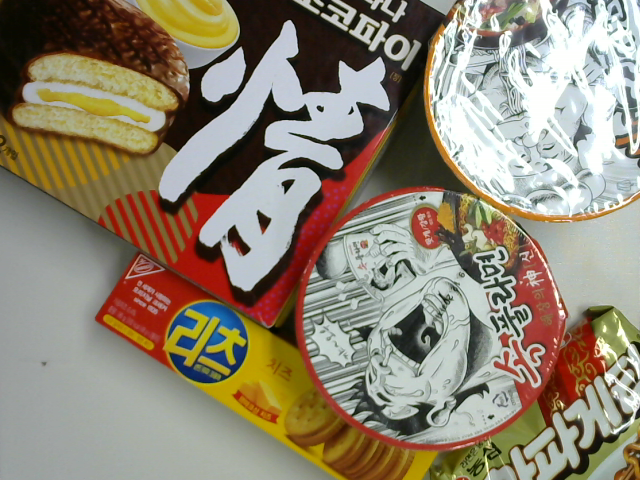Choco_Pie_Banana: (1, 1, 453, 330)
Hejangchan: (422, 1, 640, 233)
Hejangpul: (292, 185, 568, 455)
Olive_Chapaghetti: (413, 304, 639, 480)
Ritz_Sand_Cracker: (96, 254, 440, 480)
